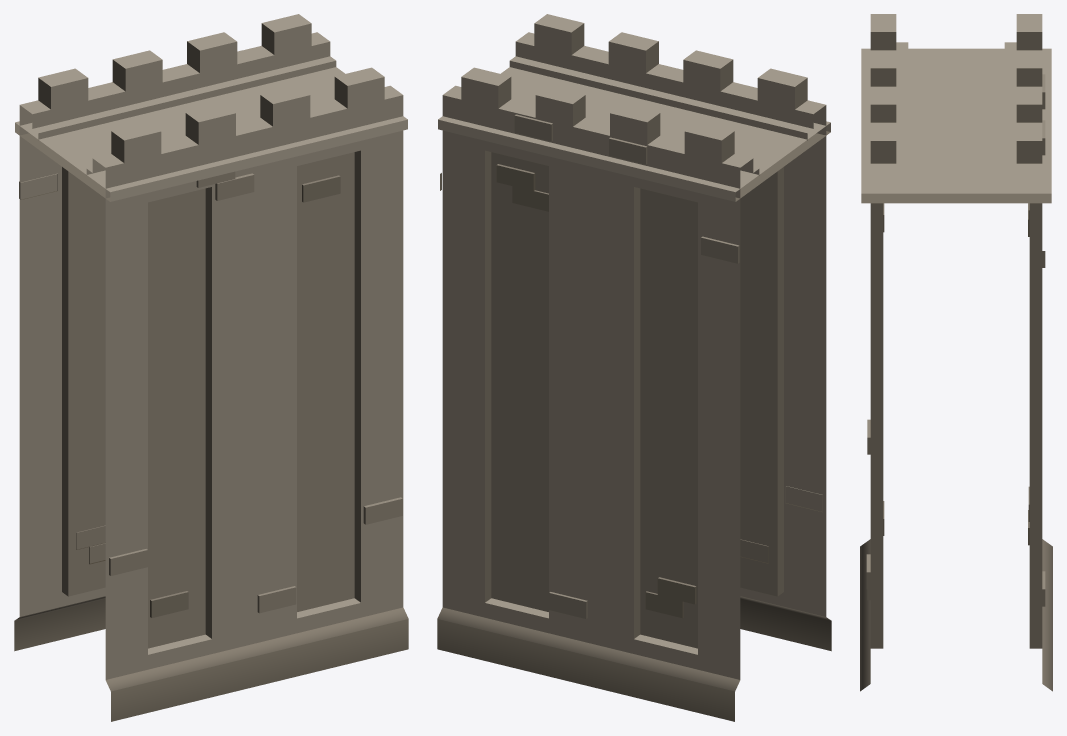
Rendered from SF_Bld_Castle_Wall_04.fbx.
3 views of the same model, side by side, from view 1: azimuth 30°, elevation 25°; view 2: azimuth 150°, elevation 25°; view 3: azimuth 270°, elevation 25° (orthographic).
Visible parts, largest first — view 1: SF_Bld_Castle_Wall_04; view 2: SF_Bld_Castle_Wall_04; view 3: SF_Bld_Castle_Wall_04.
Boxes of the visible parts, x1,y1,x2,y2 form: SF_Bld_Castle_Wall_04: (14, 14, 408, 721); SF_Bld_Castle_Wall_04: (437, 14, 831, 721); SF_Bld_Castle_Wall_04: (860, 14, 1052, 691).
Bounding box in the file's own units: 10.03 × 18.38 × 5.62.
